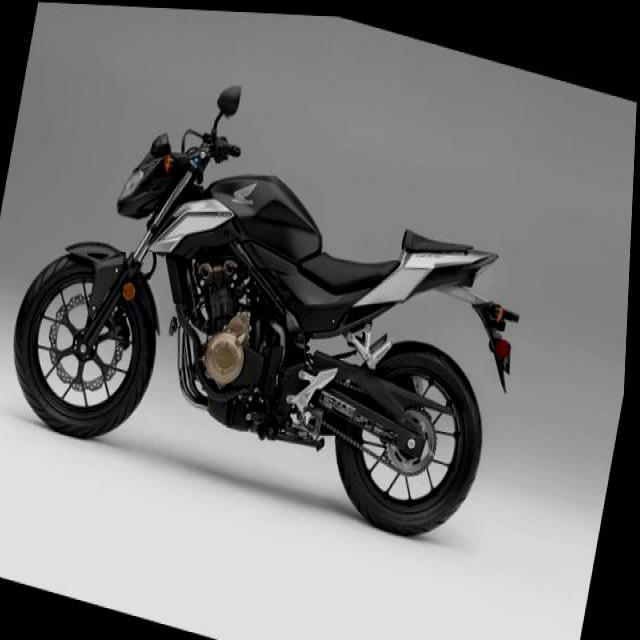CB500F: (0, 97, 543, 552)
